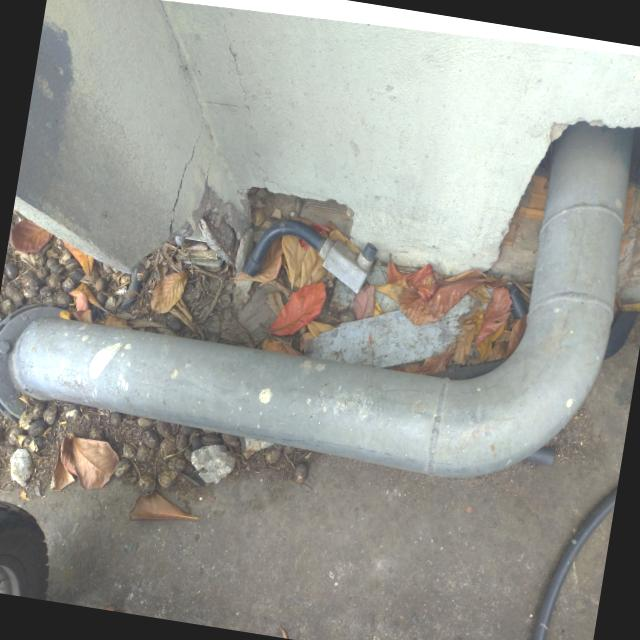gas: (0, 308, 505, 480), (512, 144, 639, 418)
